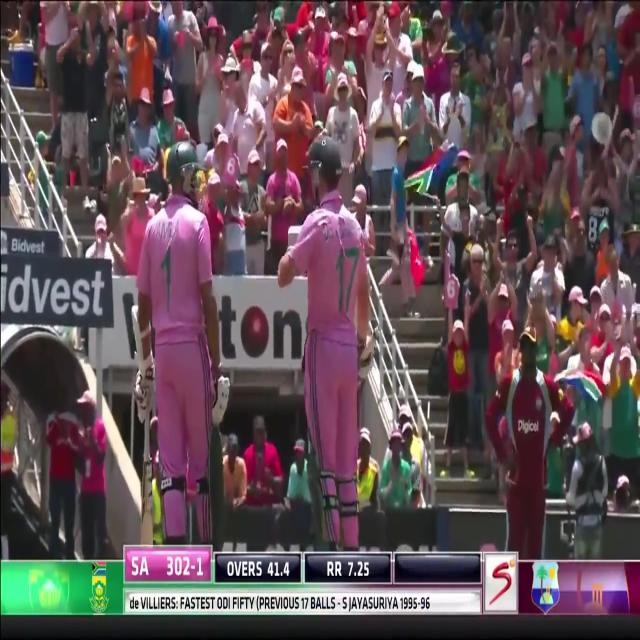Ball: (135, 140, 233, 554), (290, 134, 376, 554)
Fielder: (484, 318, 577, 554)
